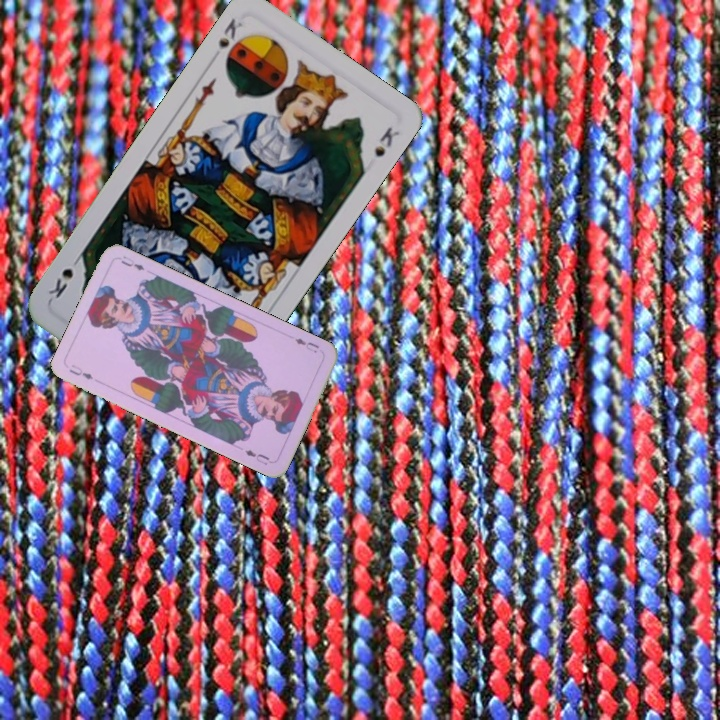EU: (65, 360, 96, 382), (291, 334, 322, 355)
SK: (209, 14, 245, 65)
